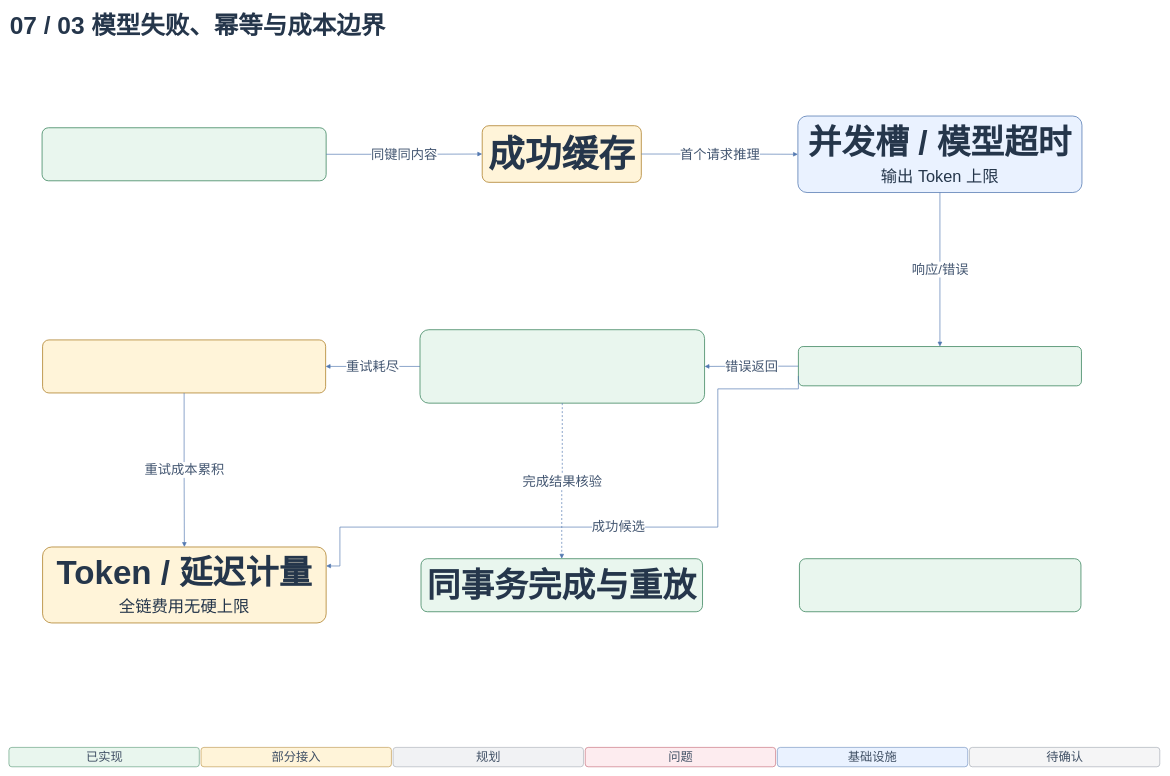
The diagram is 1170 pixels wide and 776 high, and some of its shapes have lost their labels. Each missing label, with the box of its shape:
Go HTTP 有限重试 模型超时不重试: (419, 329, 705, 403)
Worker 任务重试: (42, 339, 326, 393)
人工任务交接恢复: (799, 558, 1081, 612)
冻结版本 / 请求键: (41, 127, 326, 181)
无效响应：修复 / 有限重试: (798, 346, 1082, 386)
